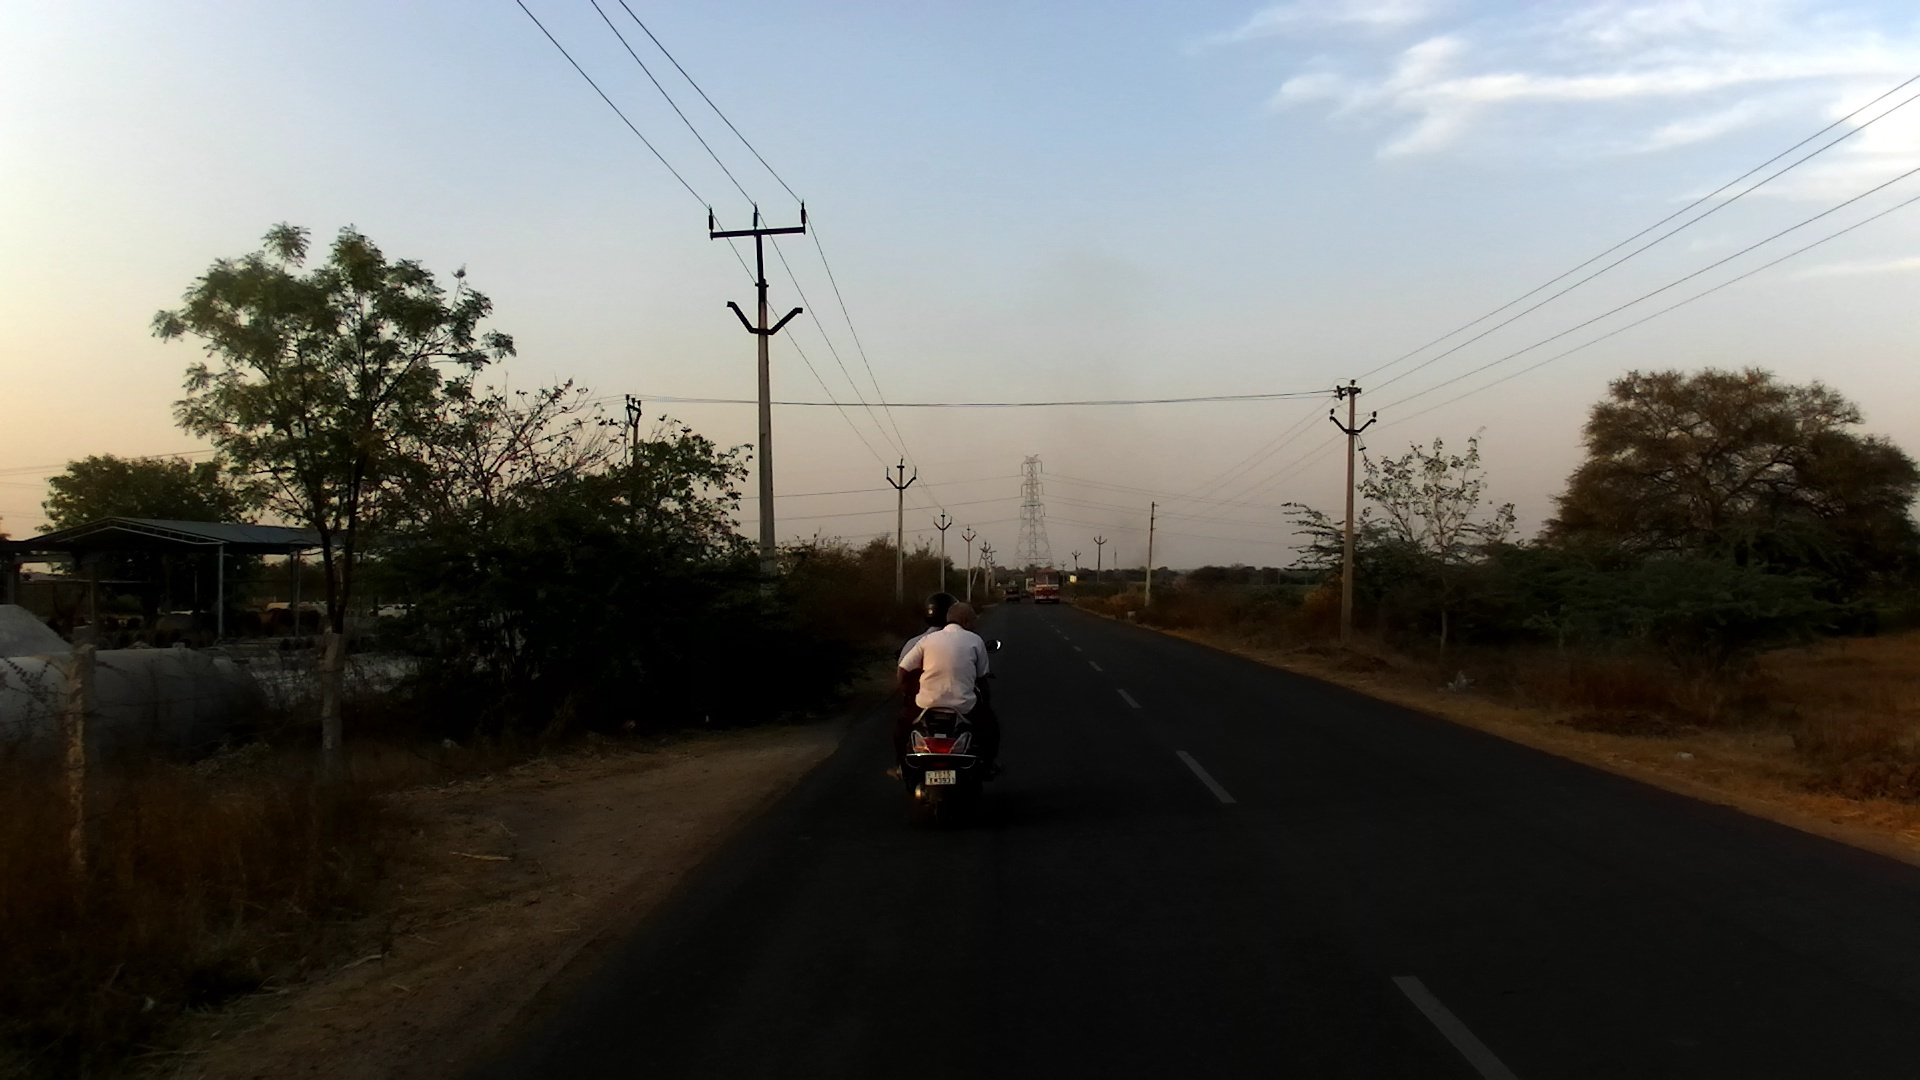autorickshaw: (997, 576, 1020, 603)
car: (1021, 585, 1033, 603)
motorcycle: (887, 632, 1010, 832)
rider: (891, 600, 1003, 794), (899, 591, 990, 714)
truck: (1030, 567, 1066, 604)
